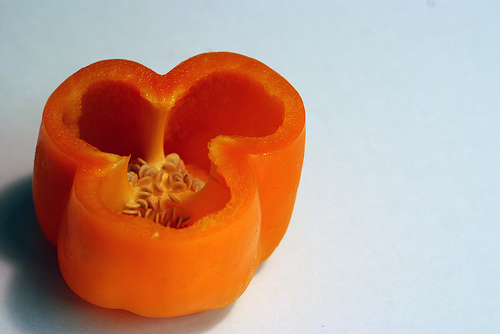capsicum: (34, 50, 307, 322)
